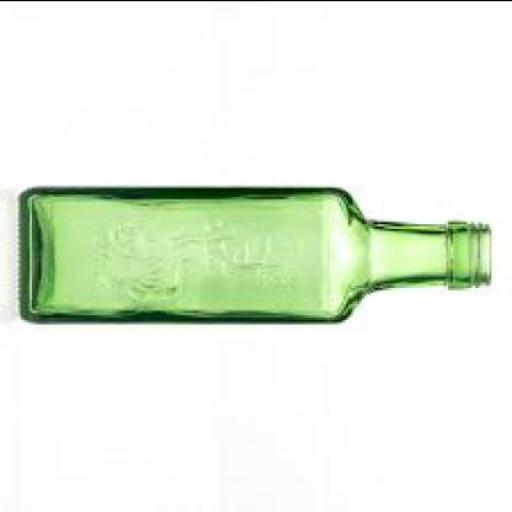glass: (21, 187, 493, 323)
